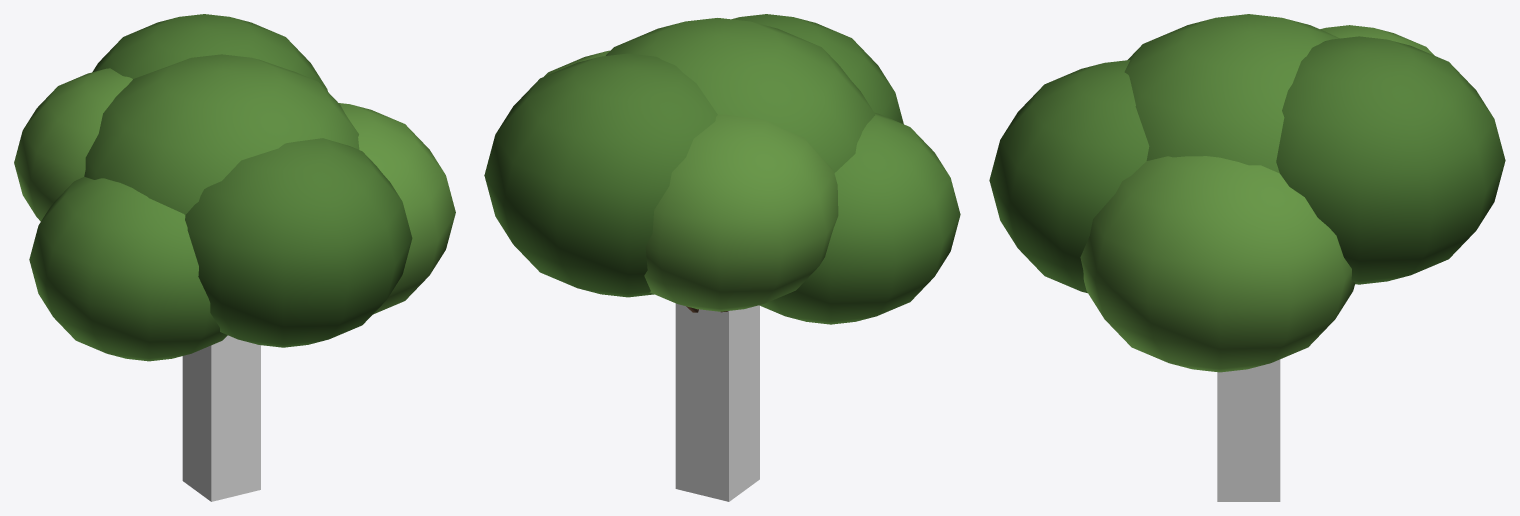
The model's file is roble.glb.
The picture shows the model from 3 angles, left to right: view 1: azimuth 30°, elevation 25°; view 2: azimuth 150°, elevation 25°; view 3: azimuth 270°, elevation 25°; orthographic projection. The views are drawn at different scales.
Visible parts, largest first — view 1: roble_Malla, COL_0; view 2: roble_Malla, COL_0; view 3: roble_Malla, COL_0.
Part boxes in pixels (left/top/right/bottom): roble_Malla: left=14, top=14, right=455, bottom=361; COL_0: left=182, top=335, right=260, bottom=501; roble_Malla: left=484, top=14, right=960, bottom=324; COL_0: left=675, top=303, right=759, bottom=501; roble_Malla: left=989, top=14, right=1505, bottom=372; COL_0: left=1217, top=359, right=1280, bottom=501.
Bounding box in the file's own units: 6.4 × 6.4 × 6.56.
